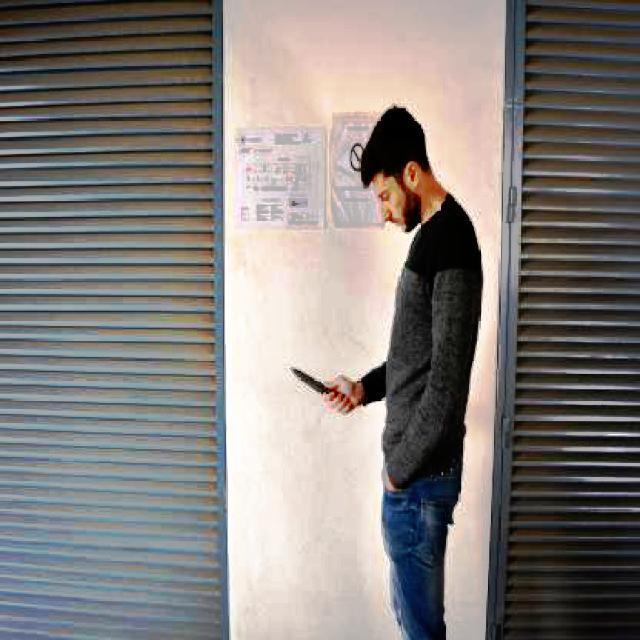Knife: (288, 366, 352, 410)
